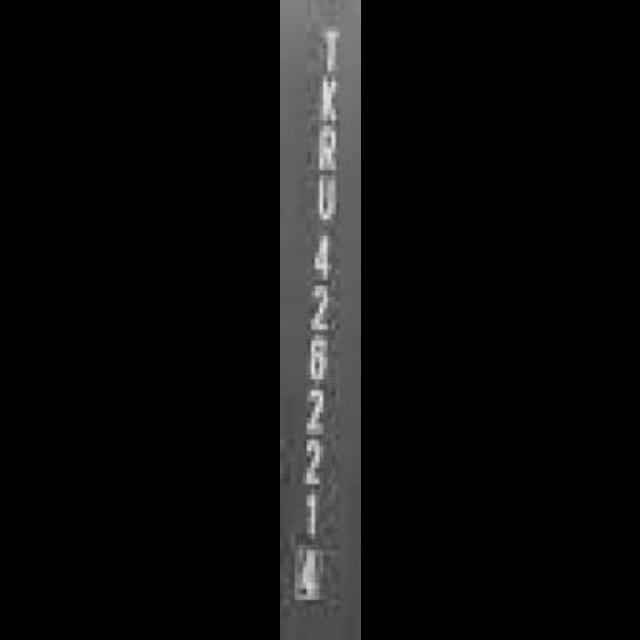1: (298, 490, 324, 534)
2: (288, 543, 328, 599), (297, 434, 333, 492), (298, 386, 336, 438), (306, 278, 332, 336)
4: (306, 229, 336, 283)
6: (300, 332, 332, 384)
k: (312, 71, 348, 129)
r: (306, 123, 348, 175)
t: (318, 24, 346, 70)
u: (310, 170, 344, 230)
